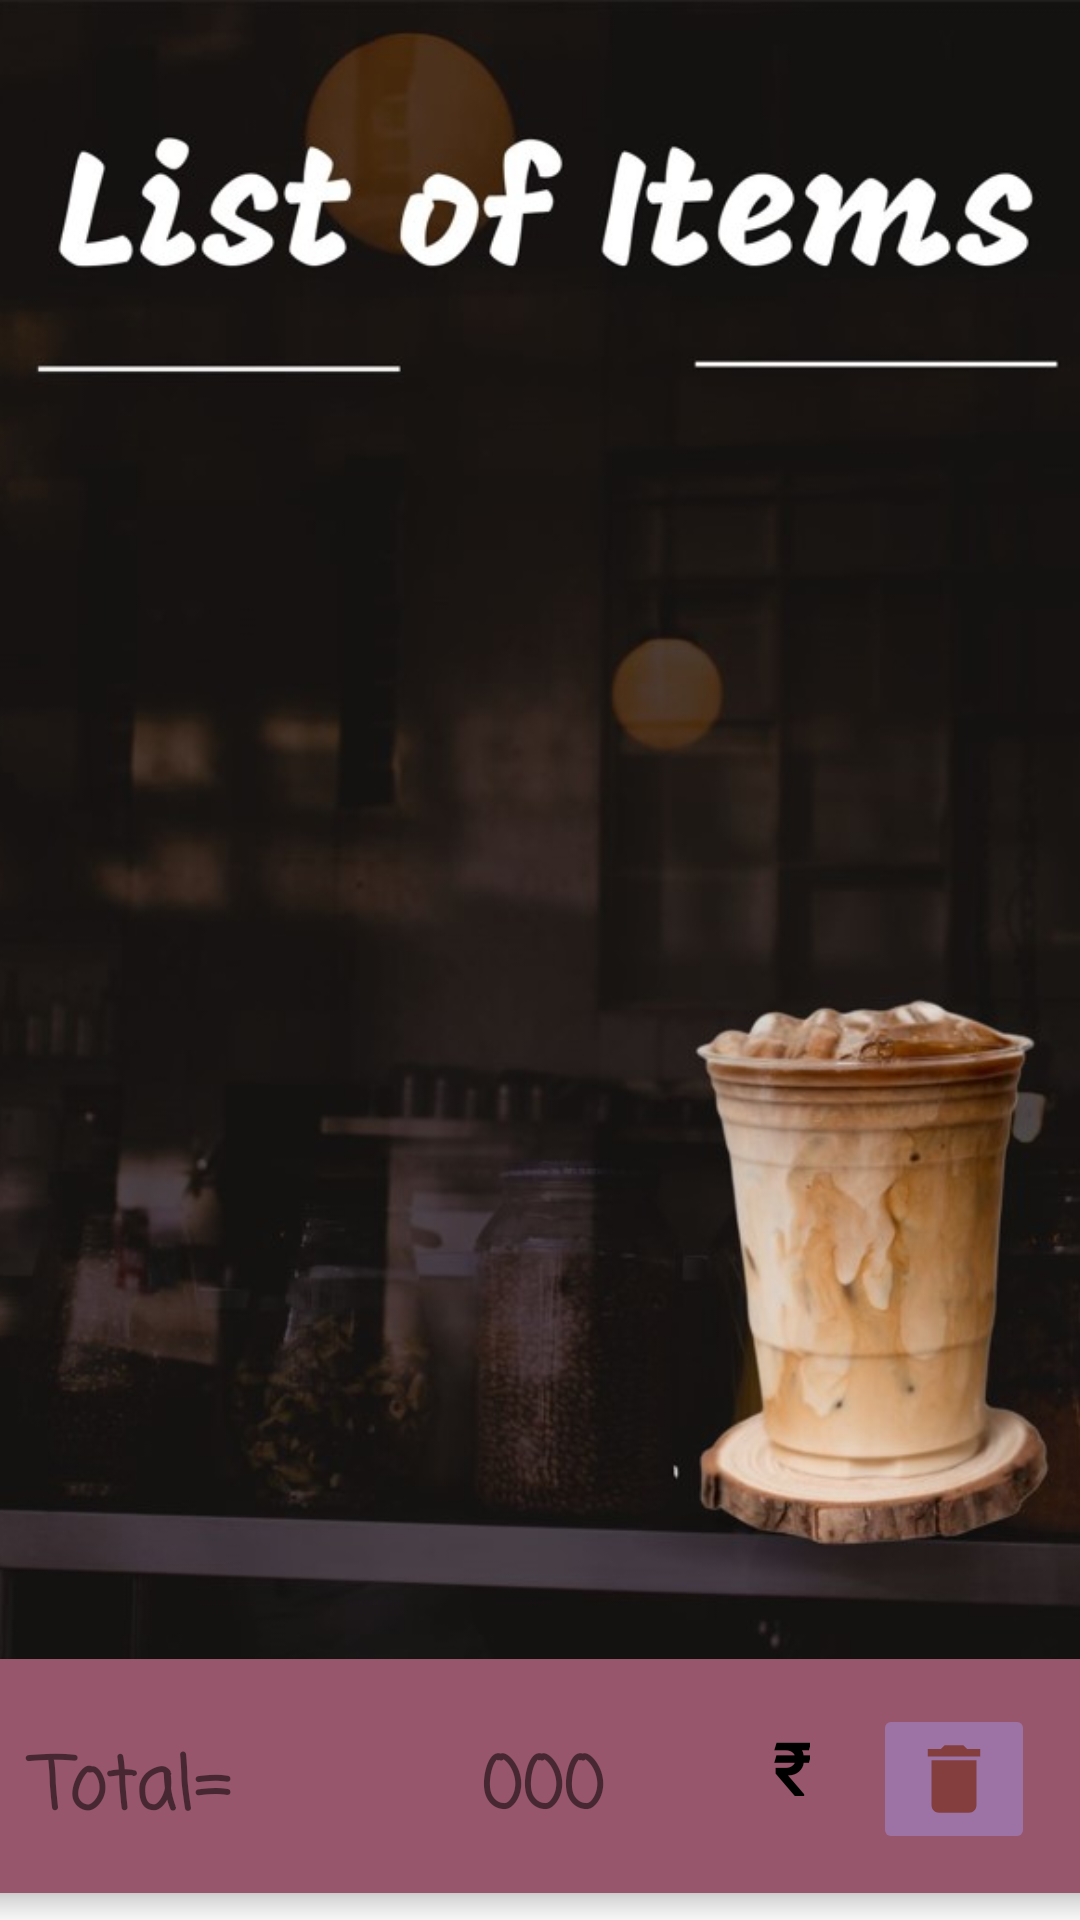

Named icons in this screenshot (1080*1920) and their centers, (x,y):
delete: (954,1779)
